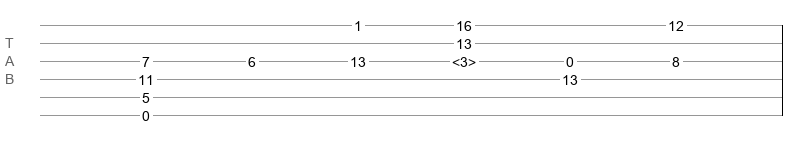0: (142, 108, 150, 118), (566, 54, 574, 64)
1: (354, 18, 362, 28)
11: (138, 72, 154, 82)
12: (668, 18, 684, 28)
13: (350, 54, 366, 64), (456, 36, 472, 46), (562, 72, 578, 82)
16: (456, 18, 472, 28)
5: (142, 90, 150, 100)
6: (248, 54, 256, 64)
7: (142, 54, 150, 64)
8: (672, 54, 680, 64)
harmonic: (452, 54, 476, 64)
